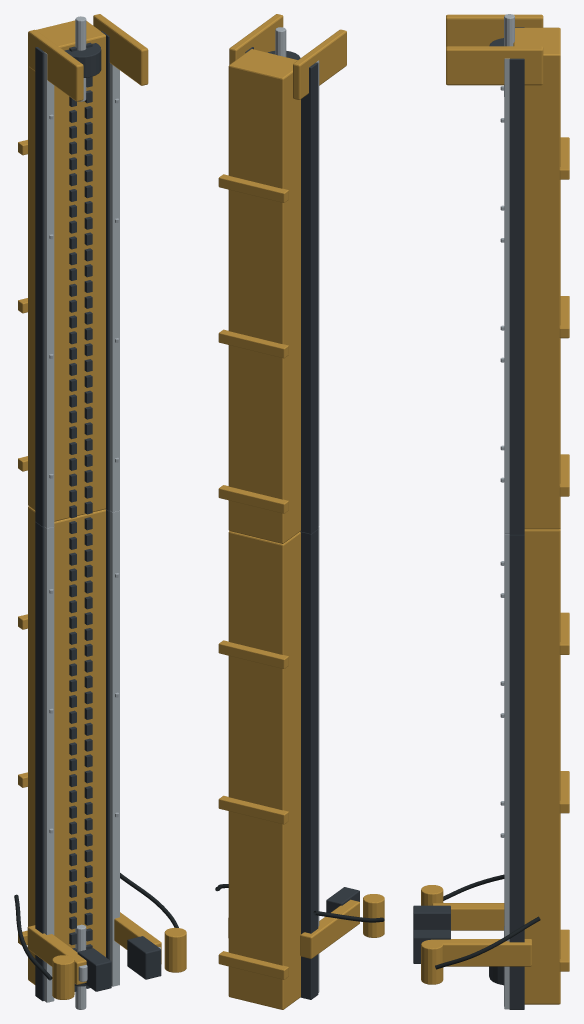
File: compact-feed-mast.glb
The picture shows the model from 3 angles, left to right: view 1: azimuth 30°, elevation 25°; view 2: azimuth 150°, elevation 25°; view 3: azimuth 270°, elevation 25°; orthographic projection.
Visible parts, largest first — view 1: Crown cheek, Fabricated spine, Chain return wheel, Chain return wheel.001, Guide piston, Machined slide rail.002, Guide hydraulic line; view 2: Crown cheek, Fabricated spine, Chain return wheel, Chain return wheel.001, Machined slide rail.002, Guide piston, Guide hydraulic line; view 3: Crown cheek, Fabricated spine, Chain return wheel, Chain return wheel.001, Machined slide rail.002, Guide piston, Guide hydraulic line.
Boxes of the visible parts, x1,y1,x2,y2 form: Crown cheek: (18,14,148,521); Fabricated spine: (18,506,186,999); Chain return wheel: (35,509,161,1001); Chain return wheel.001: (35,31,109,526); Guide piston: (44,510,160,1009); Machined slide rail.002: (44,16,119,528); Guide hydraulic line: (14,873,178,980); Crown cheek: (218,14,346,543); Fabricated spine: (218,531,384,1009); Chain return wheel: (300,529,359,999); Chain return wheel.001: (245,47,318,533); Machined slide rail.002: (275,27,319,526); Guide piston: (318,527,319,992); Guide hydraulic line: (215,884,384,922); Crown cheek: (446,14,569,529); Fabricated spine: (421,529,569,1004); Chain return wheel: (413,534,524,1009); Chain return wheel.001: (489,27,524,534); Machined slide rail.002: (500,14,514,533); Guide piston: (500,534,509,1009); Guide hydraulic line: (435,874,540,969).
Bounding box in the file's own units: 0.6817 × 4.38 × 0.625.
